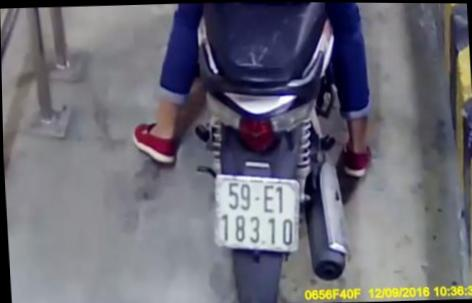LP: (213, 171, 301, 254)
